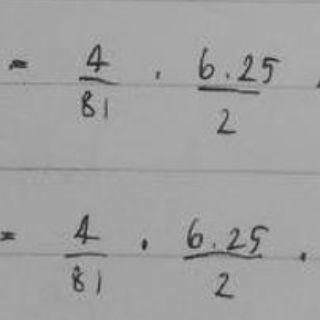.: (136, 235, 152, 254), (296, 248, 311, 266), (150, 66, 165, 83), (221, 70, 232, 82)
1: (95, 268, 103, 297), (102, 95, 110, 120)
2: (215, 105, 239, 136), (236, 52, 259, 83), (213, 271, 235, 300), (225, 226, 247, 251)
4: (70, 212, 101, 245), (84, 41, 111, 75)
5: (248, 223, 270, 255), (260, 55, 282, 85)
6: (195, 44, 217, 81), (185, 216, 205, 250)
8: (68, 263, 88, 294), (79, 89, 97, 118)
